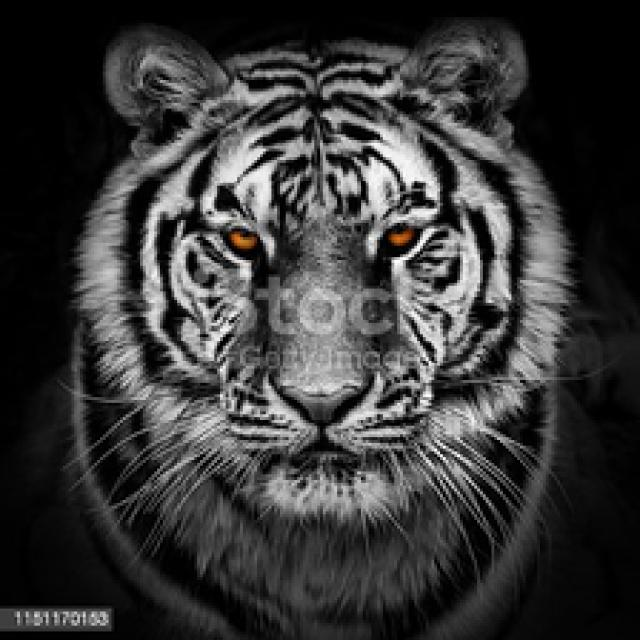tiger: (46, 23, 556, 640)
